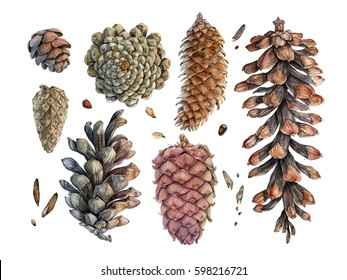Pc: (241, 13, 328, 243), (67, 107, 140, 245), (151, 131, 216, 248), (84, 25, 166, 105), (180, 9, 226, 131), (27, 78, 68, 153), (27, 24, 71, 73)
